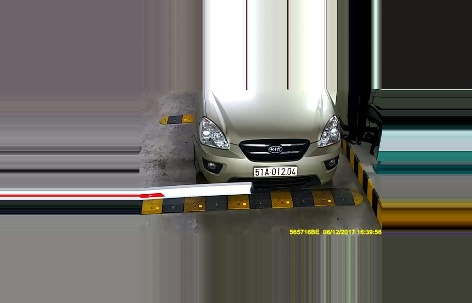plate: (253, 163, 299, 177)
